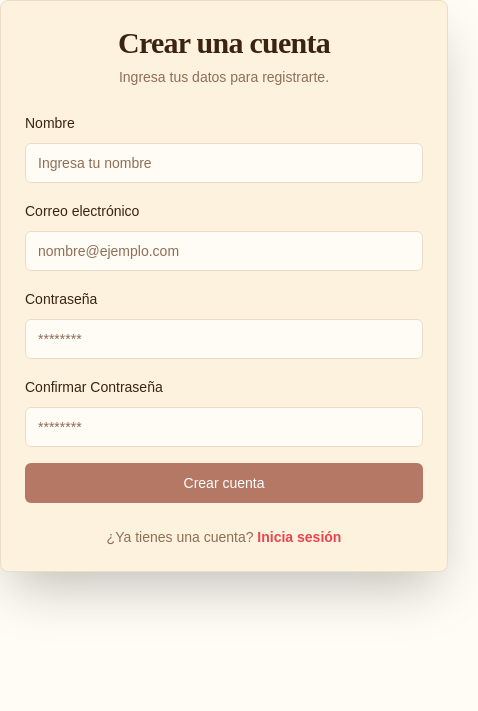
Test: RegisterForm › should show validation error for short name
Type "a" into the field labelled "Nombre" at (224, 163), box [25, 143, 423, 183]
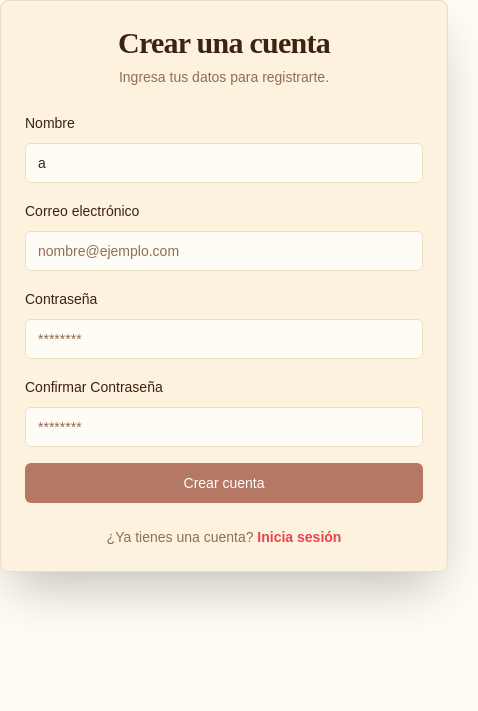
Click the button "Crear cuenta" at (224, 483), box [25, 463, 423, 503]
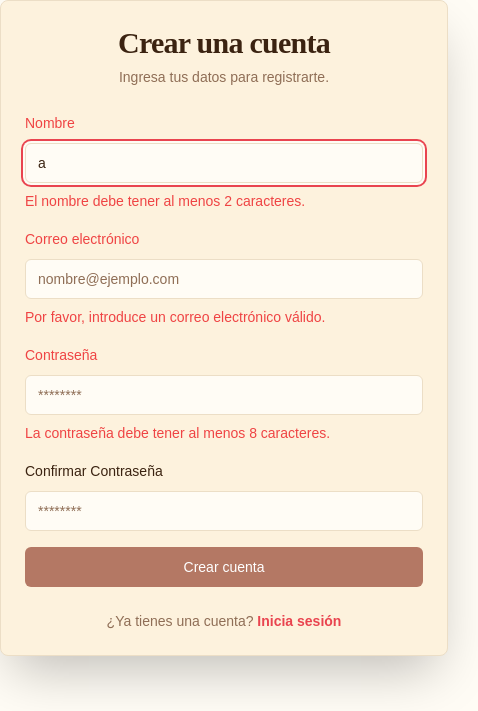
Expected: the text "El nombre debe tener al menos 2 caracteres." is shown, [25, 193, 305, 209]
